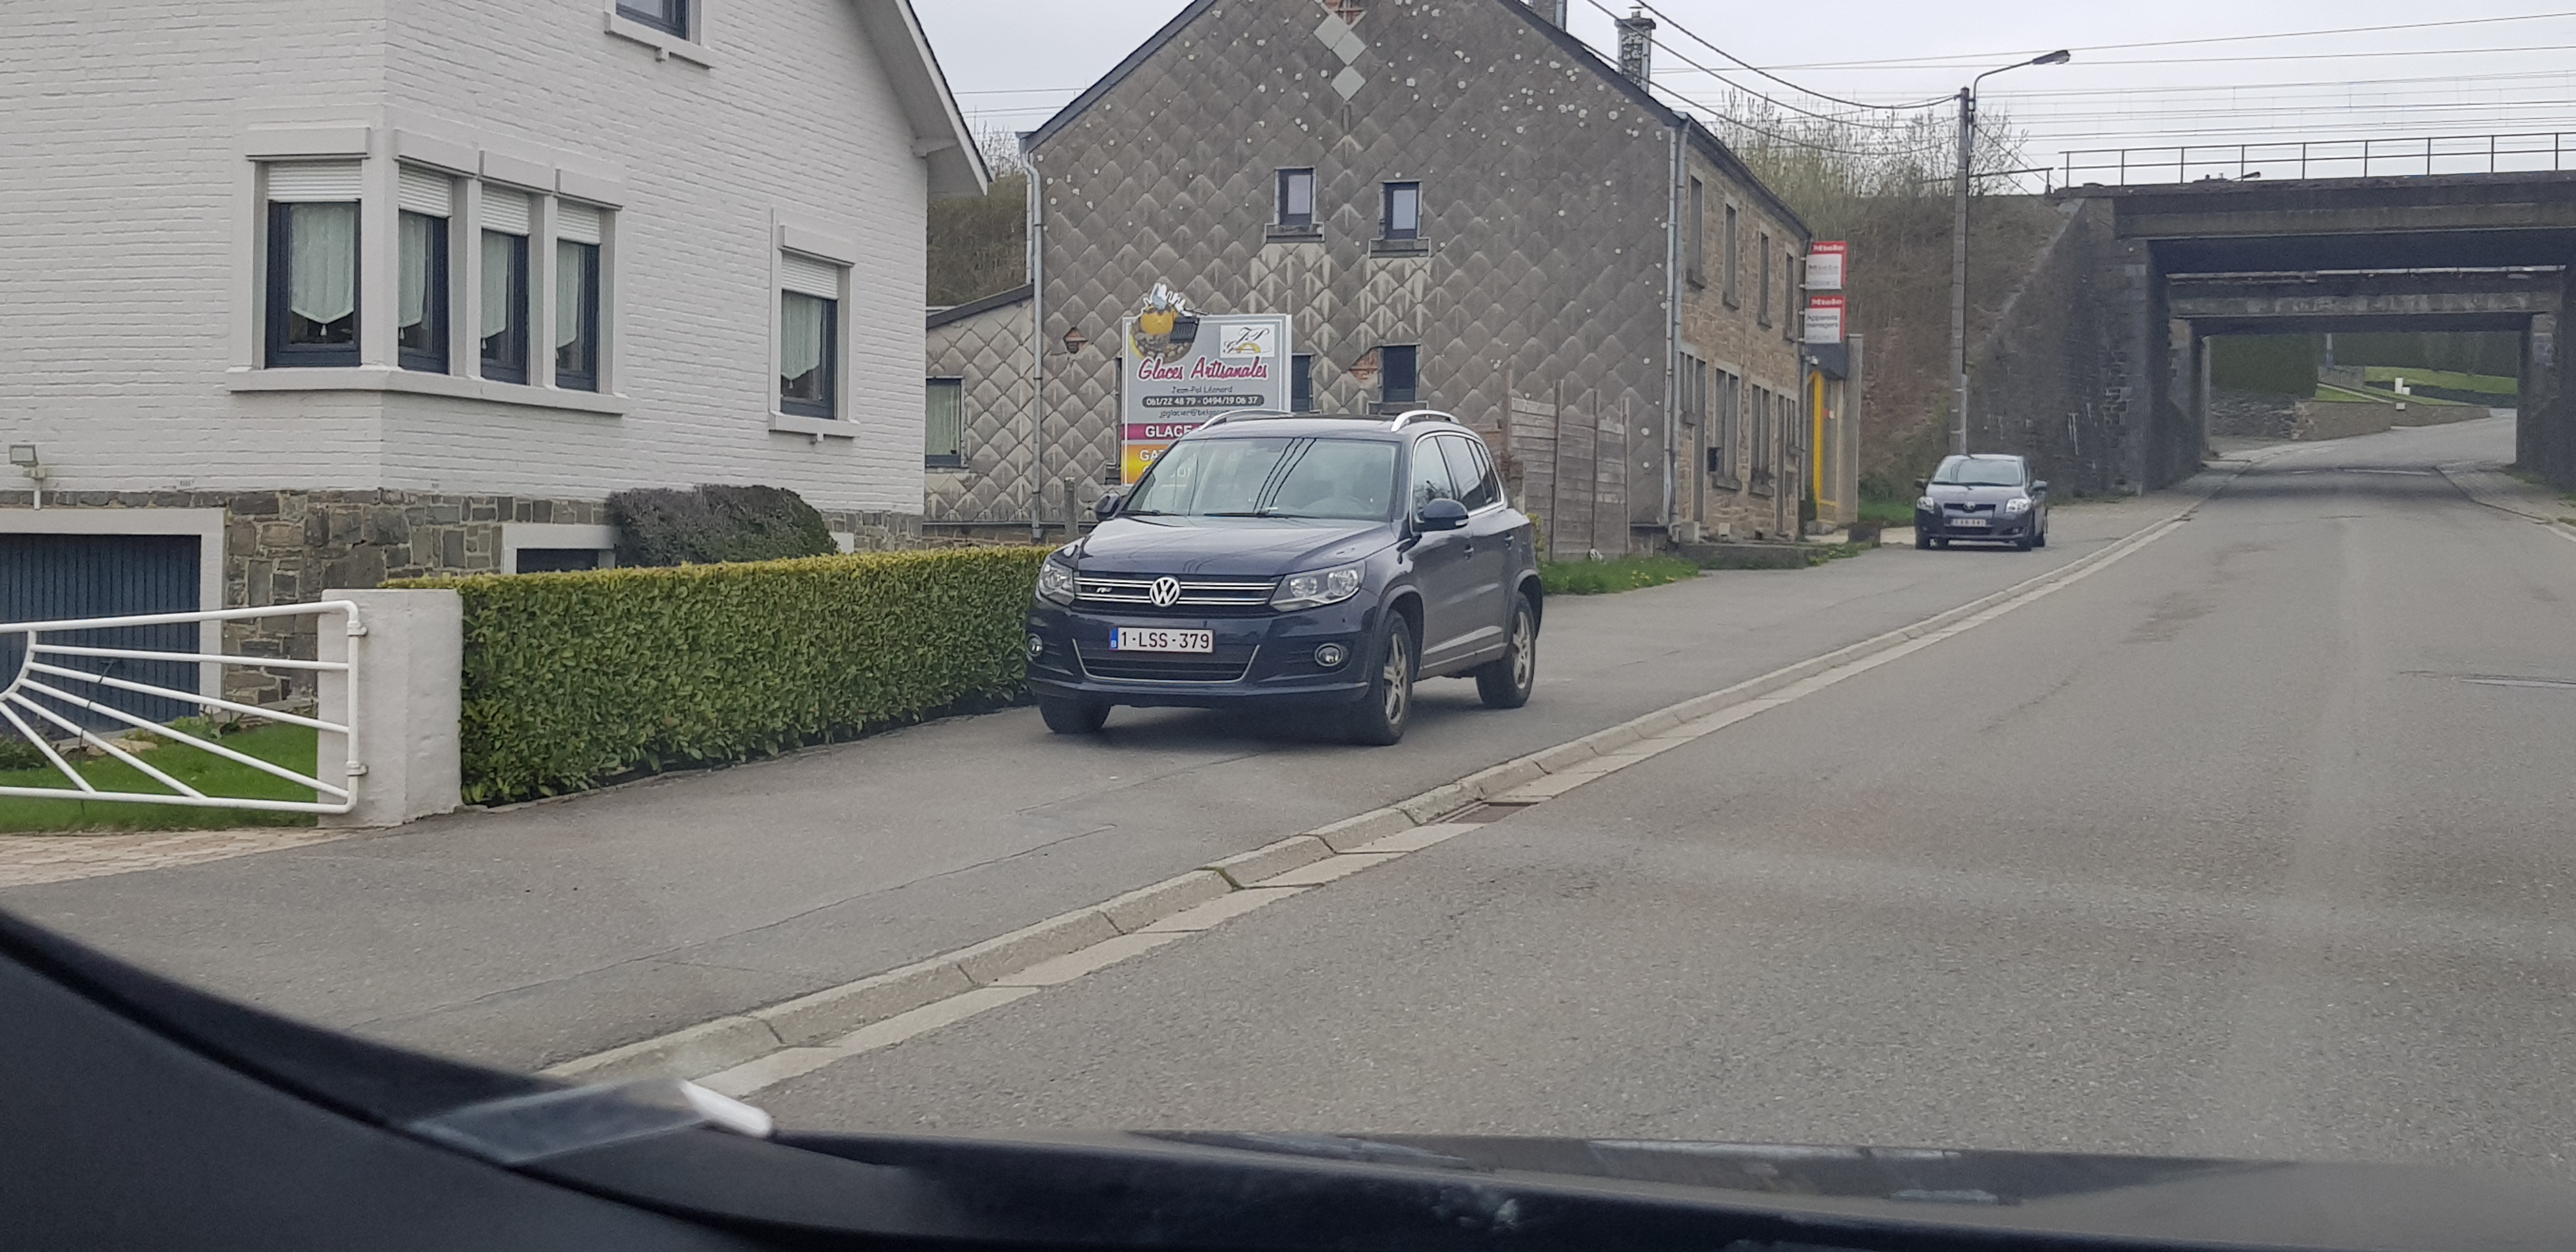licenceplate: (1107, 623, 1215, 652)
